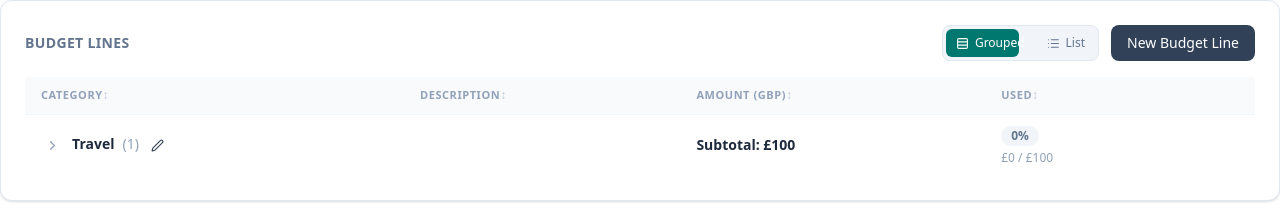
it: BudgetViewLinesTable category rename › surfaces a duplicate-name rejection inline and leaves the name unchanged
The image size is (1280, 219).
Click the button titled "Rename category": [157, 145] box [143,130,172,160]
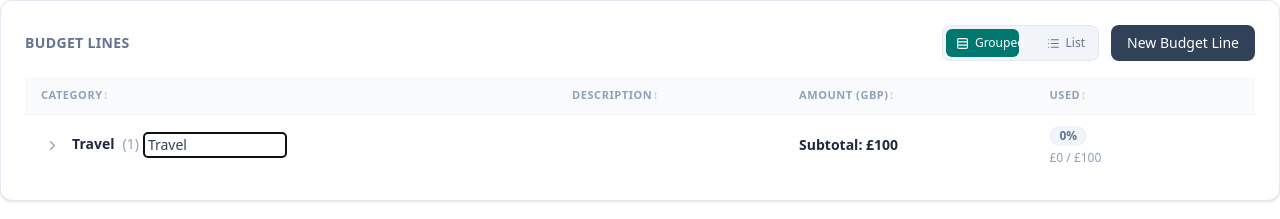
Replace the text in the field with "Duplicate": [215, 145] box [143,132,287,158]
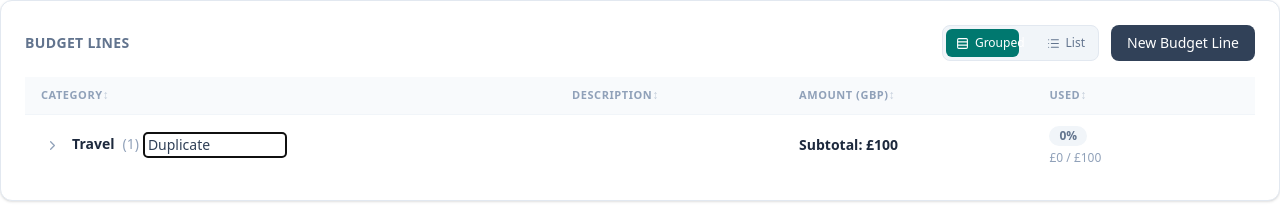
Press Enter
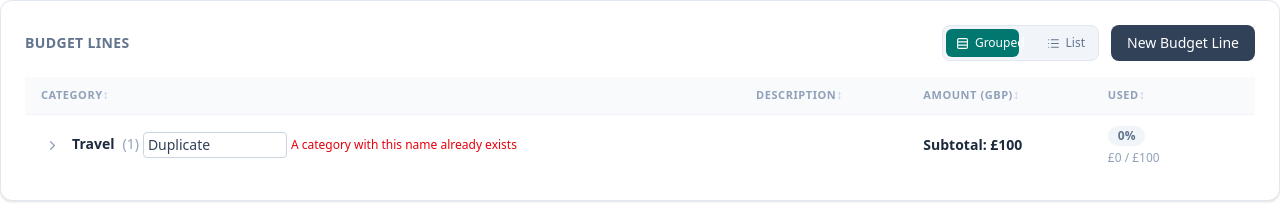
Expected: the text "Travel" is shown, [72,134,114,153]
Expected: the text "A category with this name already exists" is shown, [291,137,517,153]
